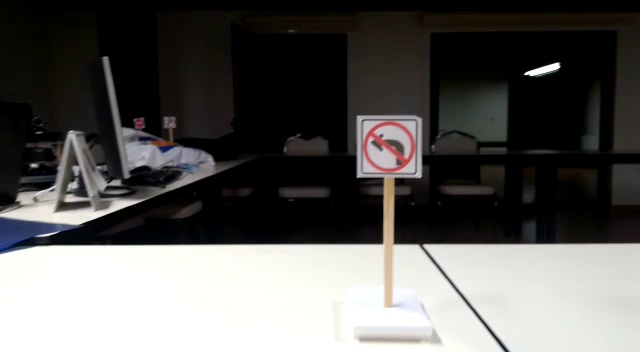sola_donulmez: (359, 116, 416, 177)
